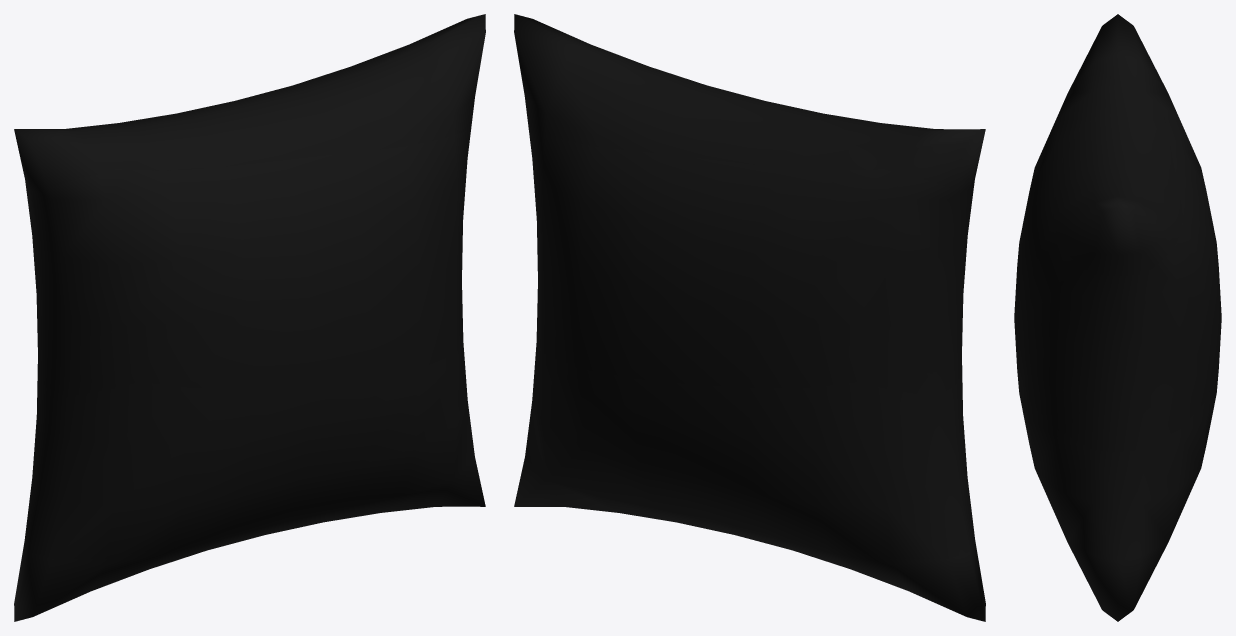
The model's file is 4b5a42a4-ddf8-445d-ae76-dc7ed2345906.glb.
3 views of the same model, side by side, from view 1: azimuth 30°, elevation 25°; view 2: azimuth 150°, elevation 25°; view 3: azimuth 270°, elevation 25° (orthographic). The views are drawn at different scales.
Visible parts, largest first — view 1: StandardPillowBlack; view 2: StandardPillowBlack; view 3: StandardPillowBlack.
Part boxes in pixels (x1,y1,x2,y2): StandardPillowBlack: (14,14,485,621); StandardPillowBlack: (514,14,985,621); StandardPillowBlack: (1014,14,1221,621).
Size of the model in its own units: 0.6356 by 0.6356 by 0.2884.
Materials: 1 (1 with a texture image).
